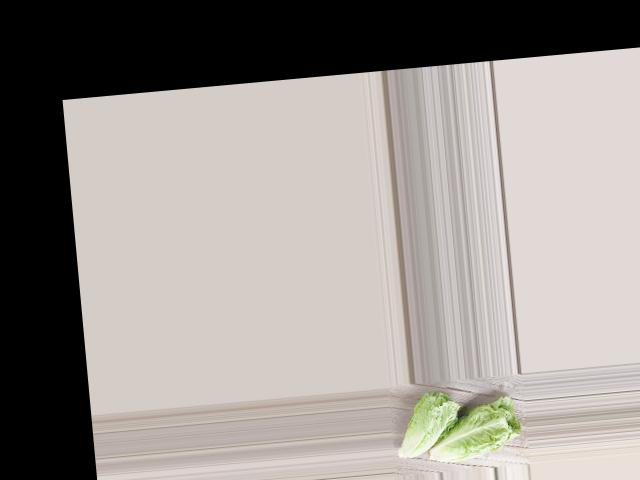lettuce: (387, 383, 466, 462)
